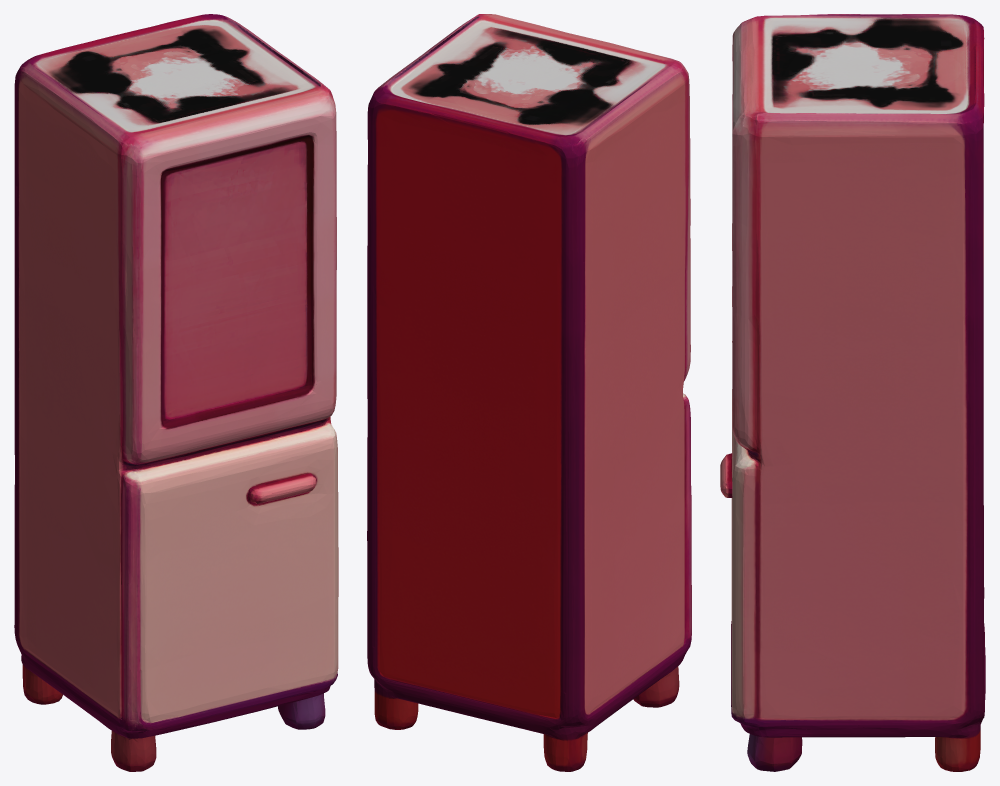
The picture shows the model from 3 angles, left to right: view 1: azimuth 30°, elevation 25°; view 2: azimuth 150°, elevation 25°; view 3: azimuth 270°, elevation 25°; orthographic projection. The views are drawn at different scales.
Visible parts, largest first — view 1: world; view 2: world; view 3: world.
Part boxes in pixels (x1,y1,x2,y2): world: (14,14,338,771); world: (367,14,691,771); world: (720,14,985,771).
Bounding box in the file's own units: 0.3553 × 0.9987 × 0.3646.
Materials: 1 (1 with a texture image).
